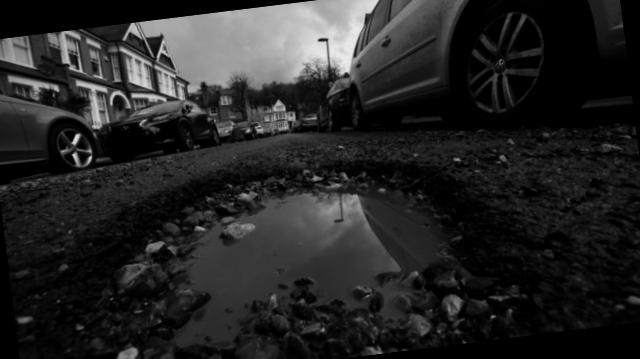Pothole: (36, 125, 541, 359)
